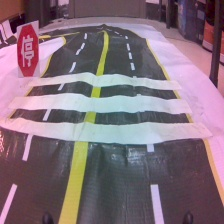stop: (15, 19, 43, 81)
